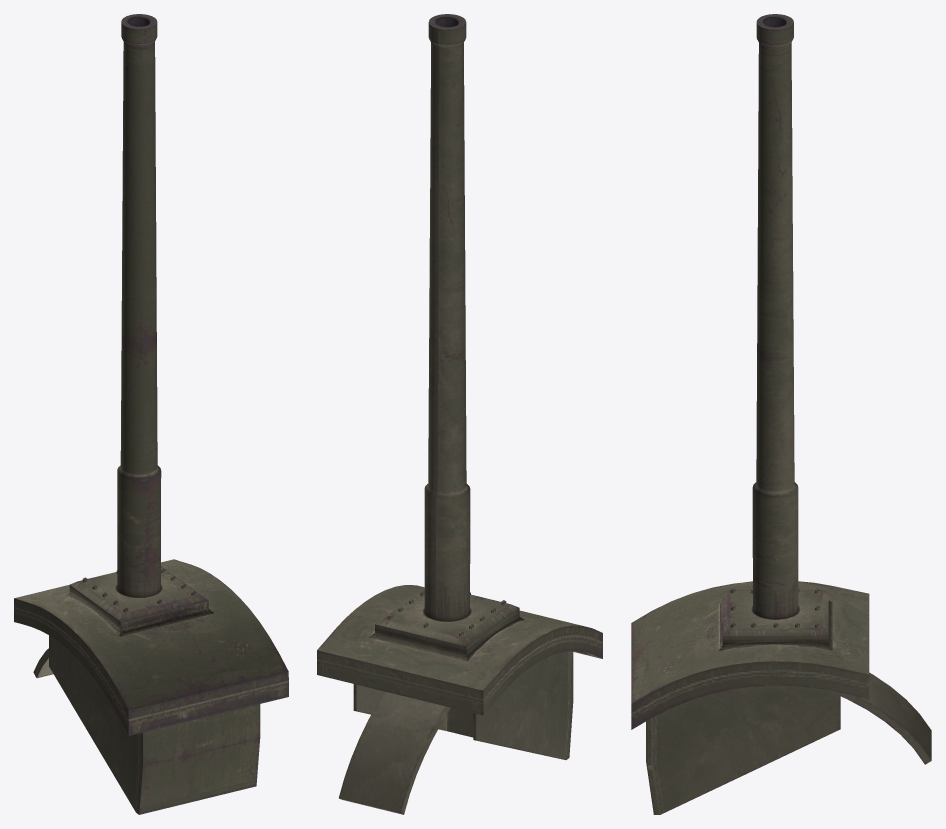
Rendered from Gun_01.glb.
3 views of the same model, side by side, from view 1: azimuth 30°, elevation 25°; view 2: azimuth 150°, elevation 25°; view 3: azimuth 270°, elevation 25° (orthographic). The views are drawn at different scales.
Visible parts, largest first — view 1: set_0_group_0; view 2: set_0_group_0; view 3: set_0_group_0.
Part boxes in pixels (x1,y1,x2,y2): set_0_group_0: [14, 14, 288, 814]; set_0_group_0: [317, 14, 602, 814]; set_0_group_0: [631, 14, 931, 814].
Size of the model in its own units: 1.27 by 5.58 by 1.99.
Materials: 1 (1 with a texture image).
